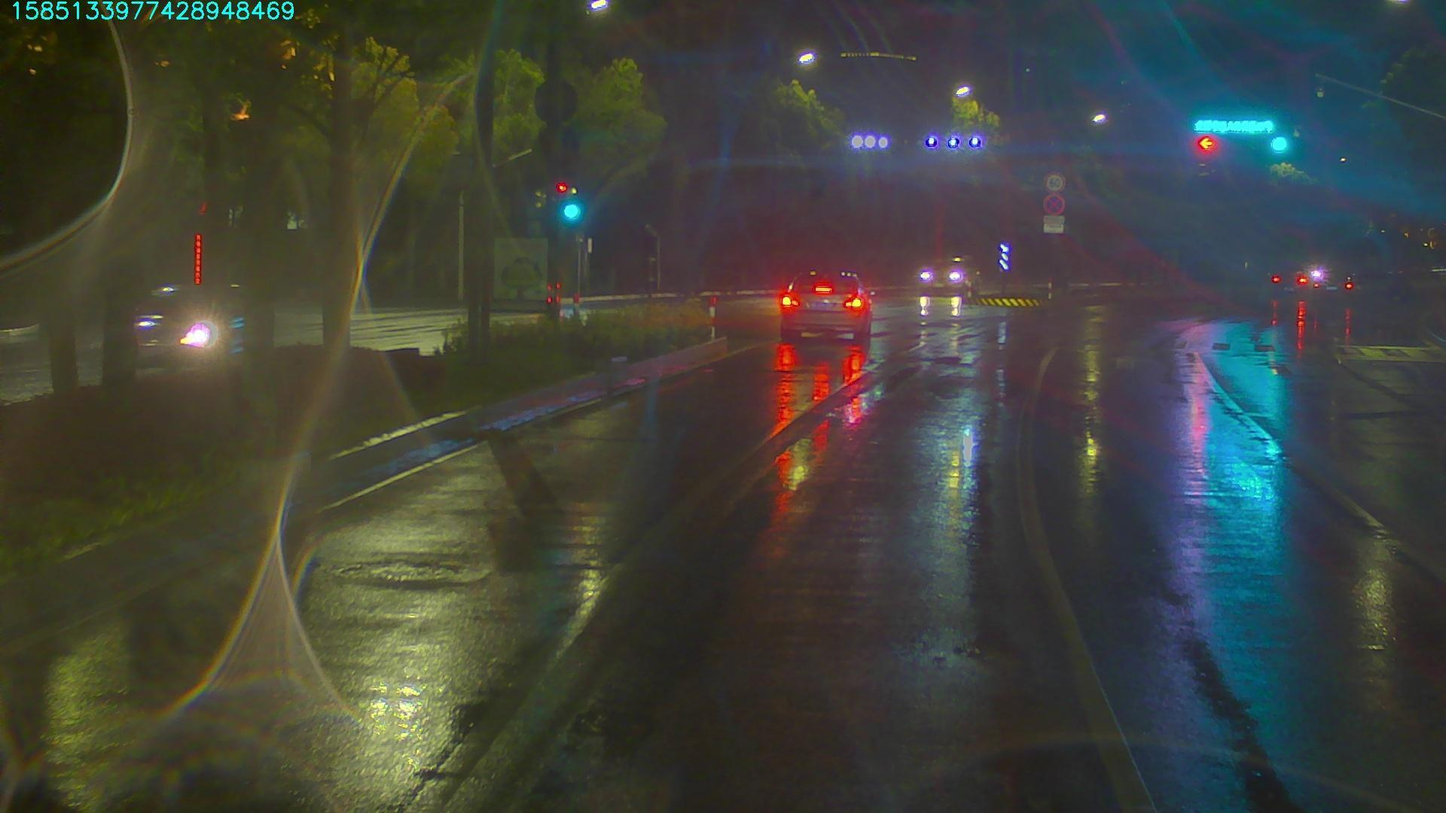green: (1269, 137, 1292, 156)
red: (1194, 134, 1212, 153)
wait_on: (1191, 117, 1277, 134)
